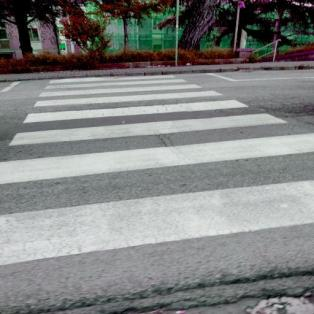Paso de Cebra: (2, 98, 291, 150)
